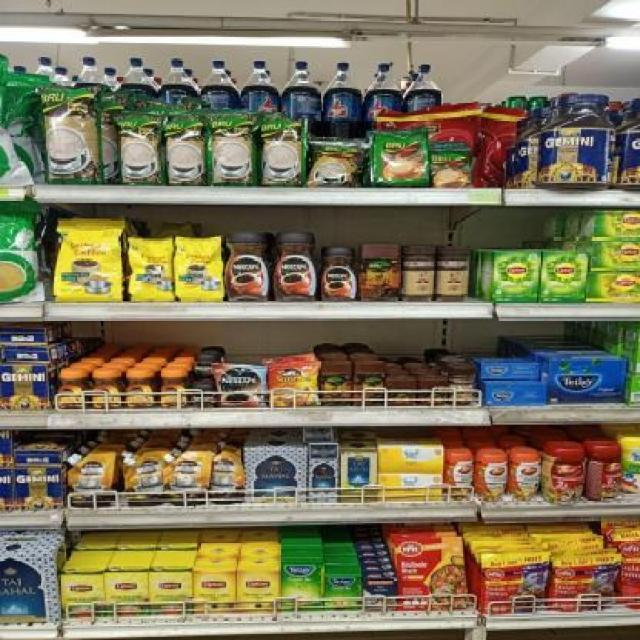Coffee: (273, 233, 319, 302), (225, 232, 269, 300), (216, 366, 268, 409), (271, 362, 320, 406), (320, 247, 357, 301), (91, 372, 124, 409), (125, 371, 157, 408), (58, 371, 88, 410), (159, 371, 188, 409), (190, 383, 216, 407), (193, 352, 214, 376)
